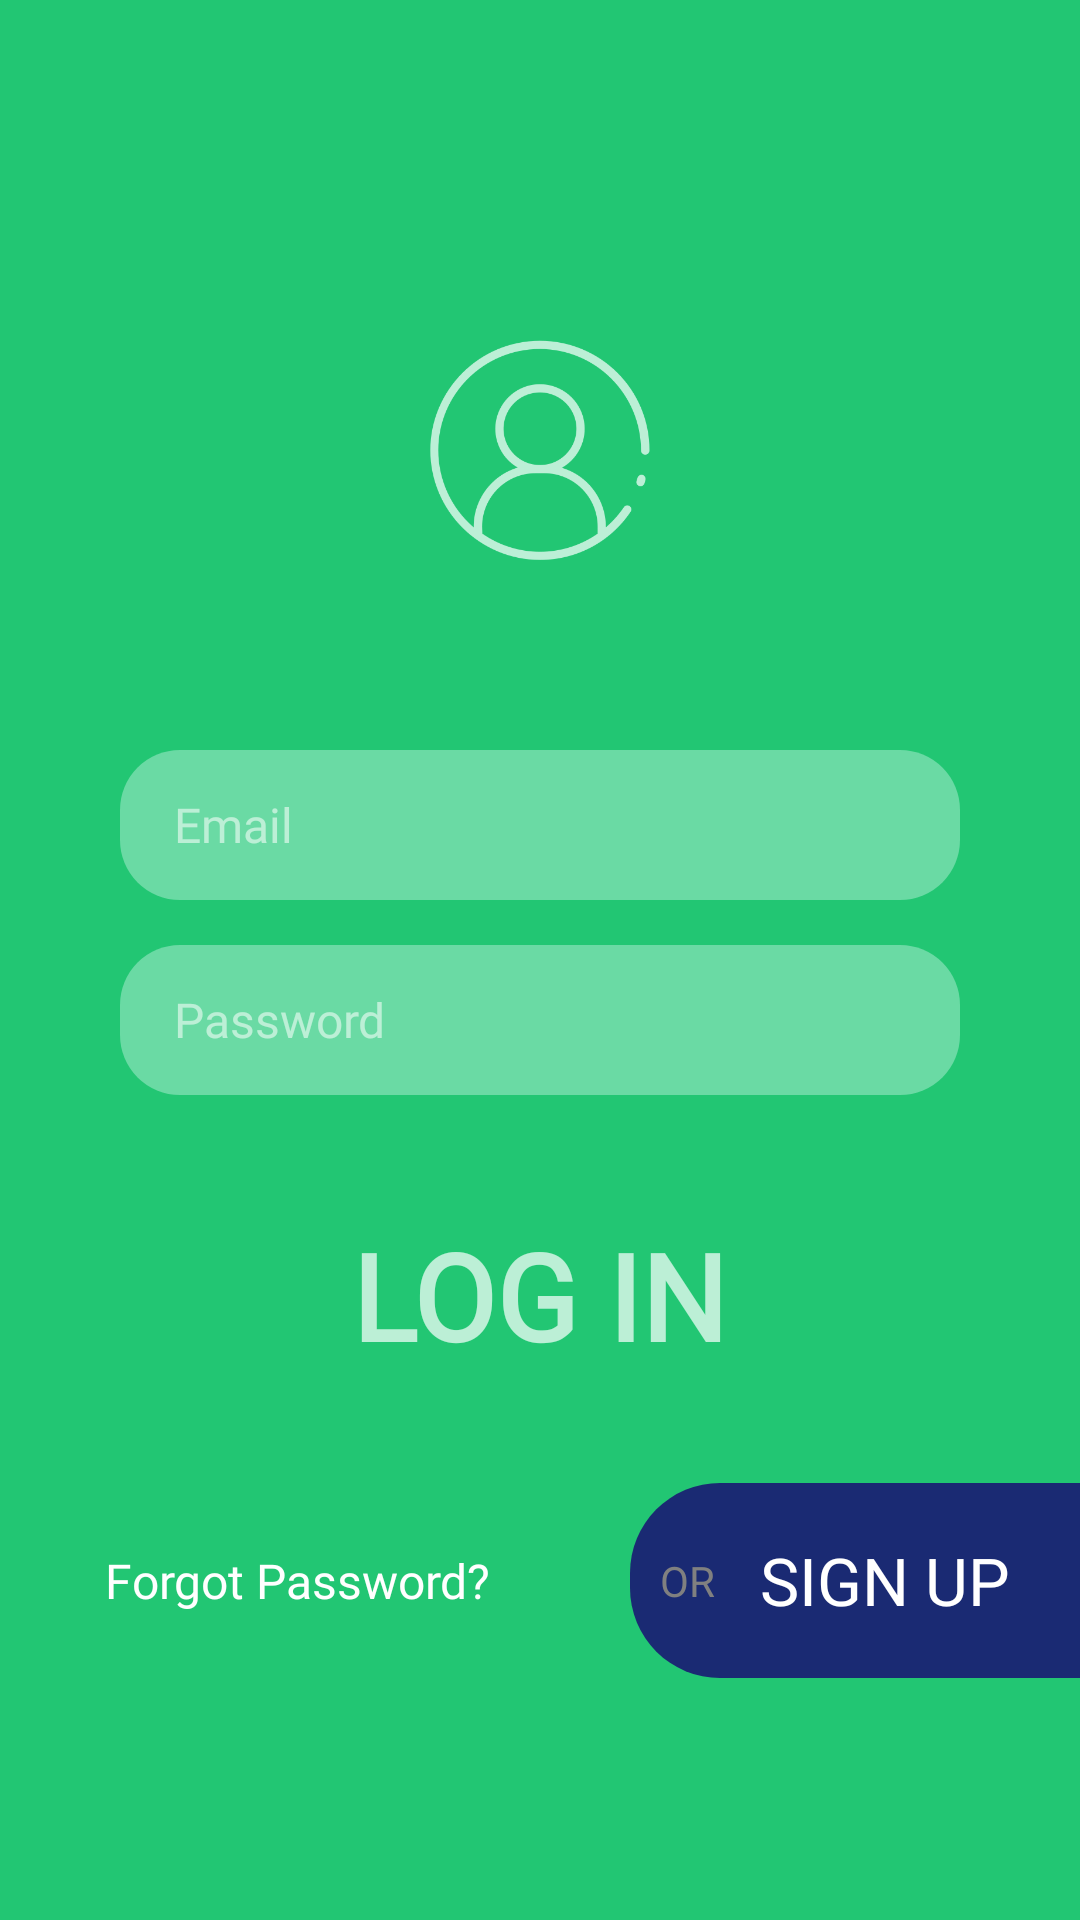

Screen size 1080 × 1920. Icon name, then its box in pixels as (x1, y1, x2, y2):
login: (430, 340, 650, 560)
